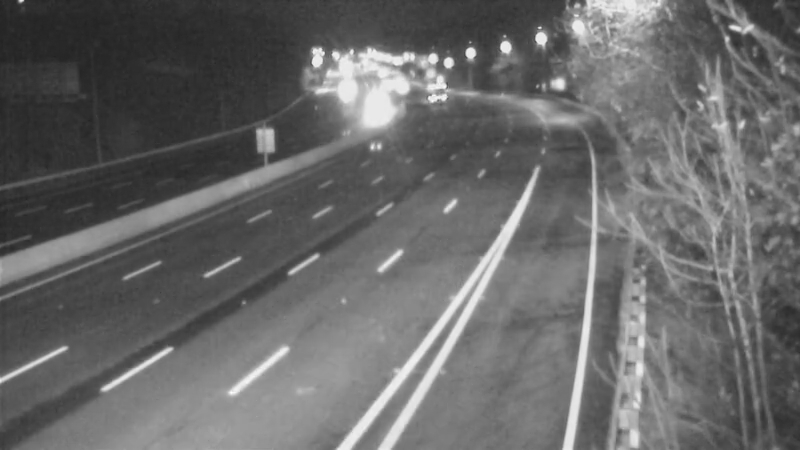vehicle: (411, 69, 461, 119), (356, 83, 406, 133), (325, 57, 375, 107)
